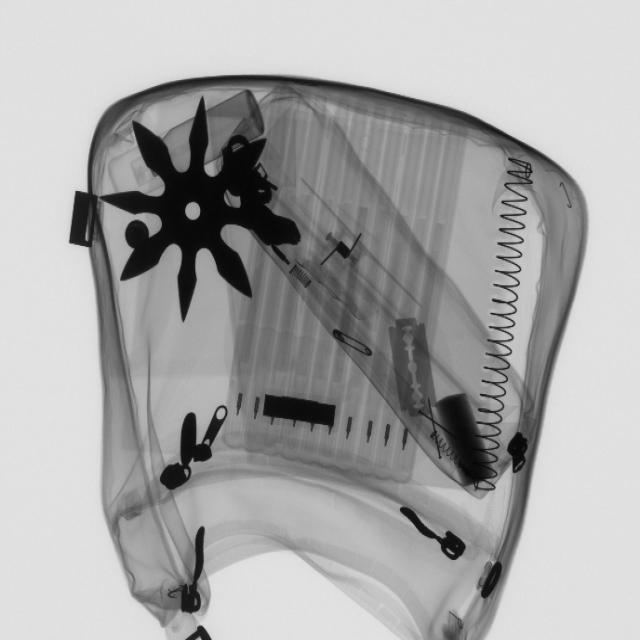BLADE: (385, 310, 441, 429)
SHURIKEN: (104, 94, 286, 326)
